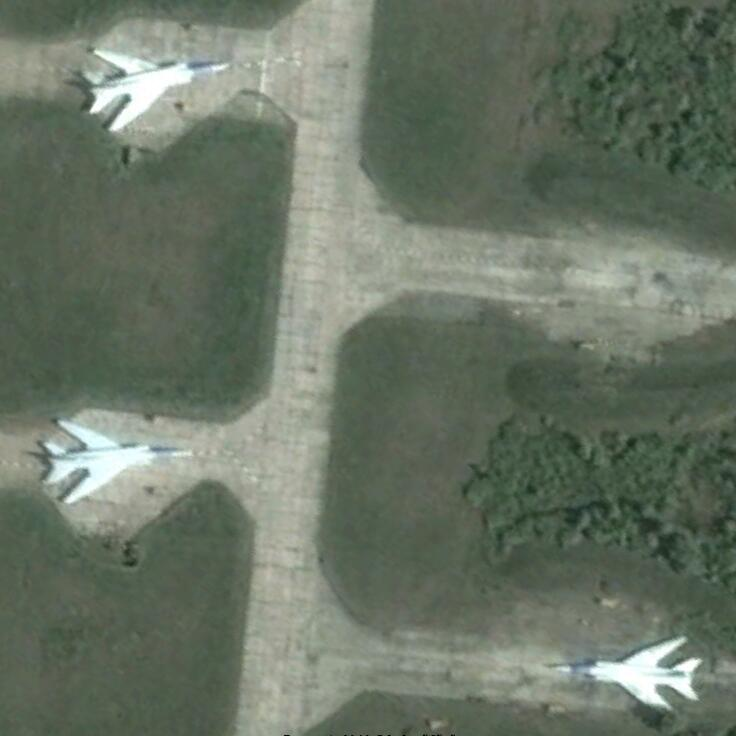A12: (39, 413, 197, 509), (76, 43, 231, 134), (542, 632, 704, 717)
